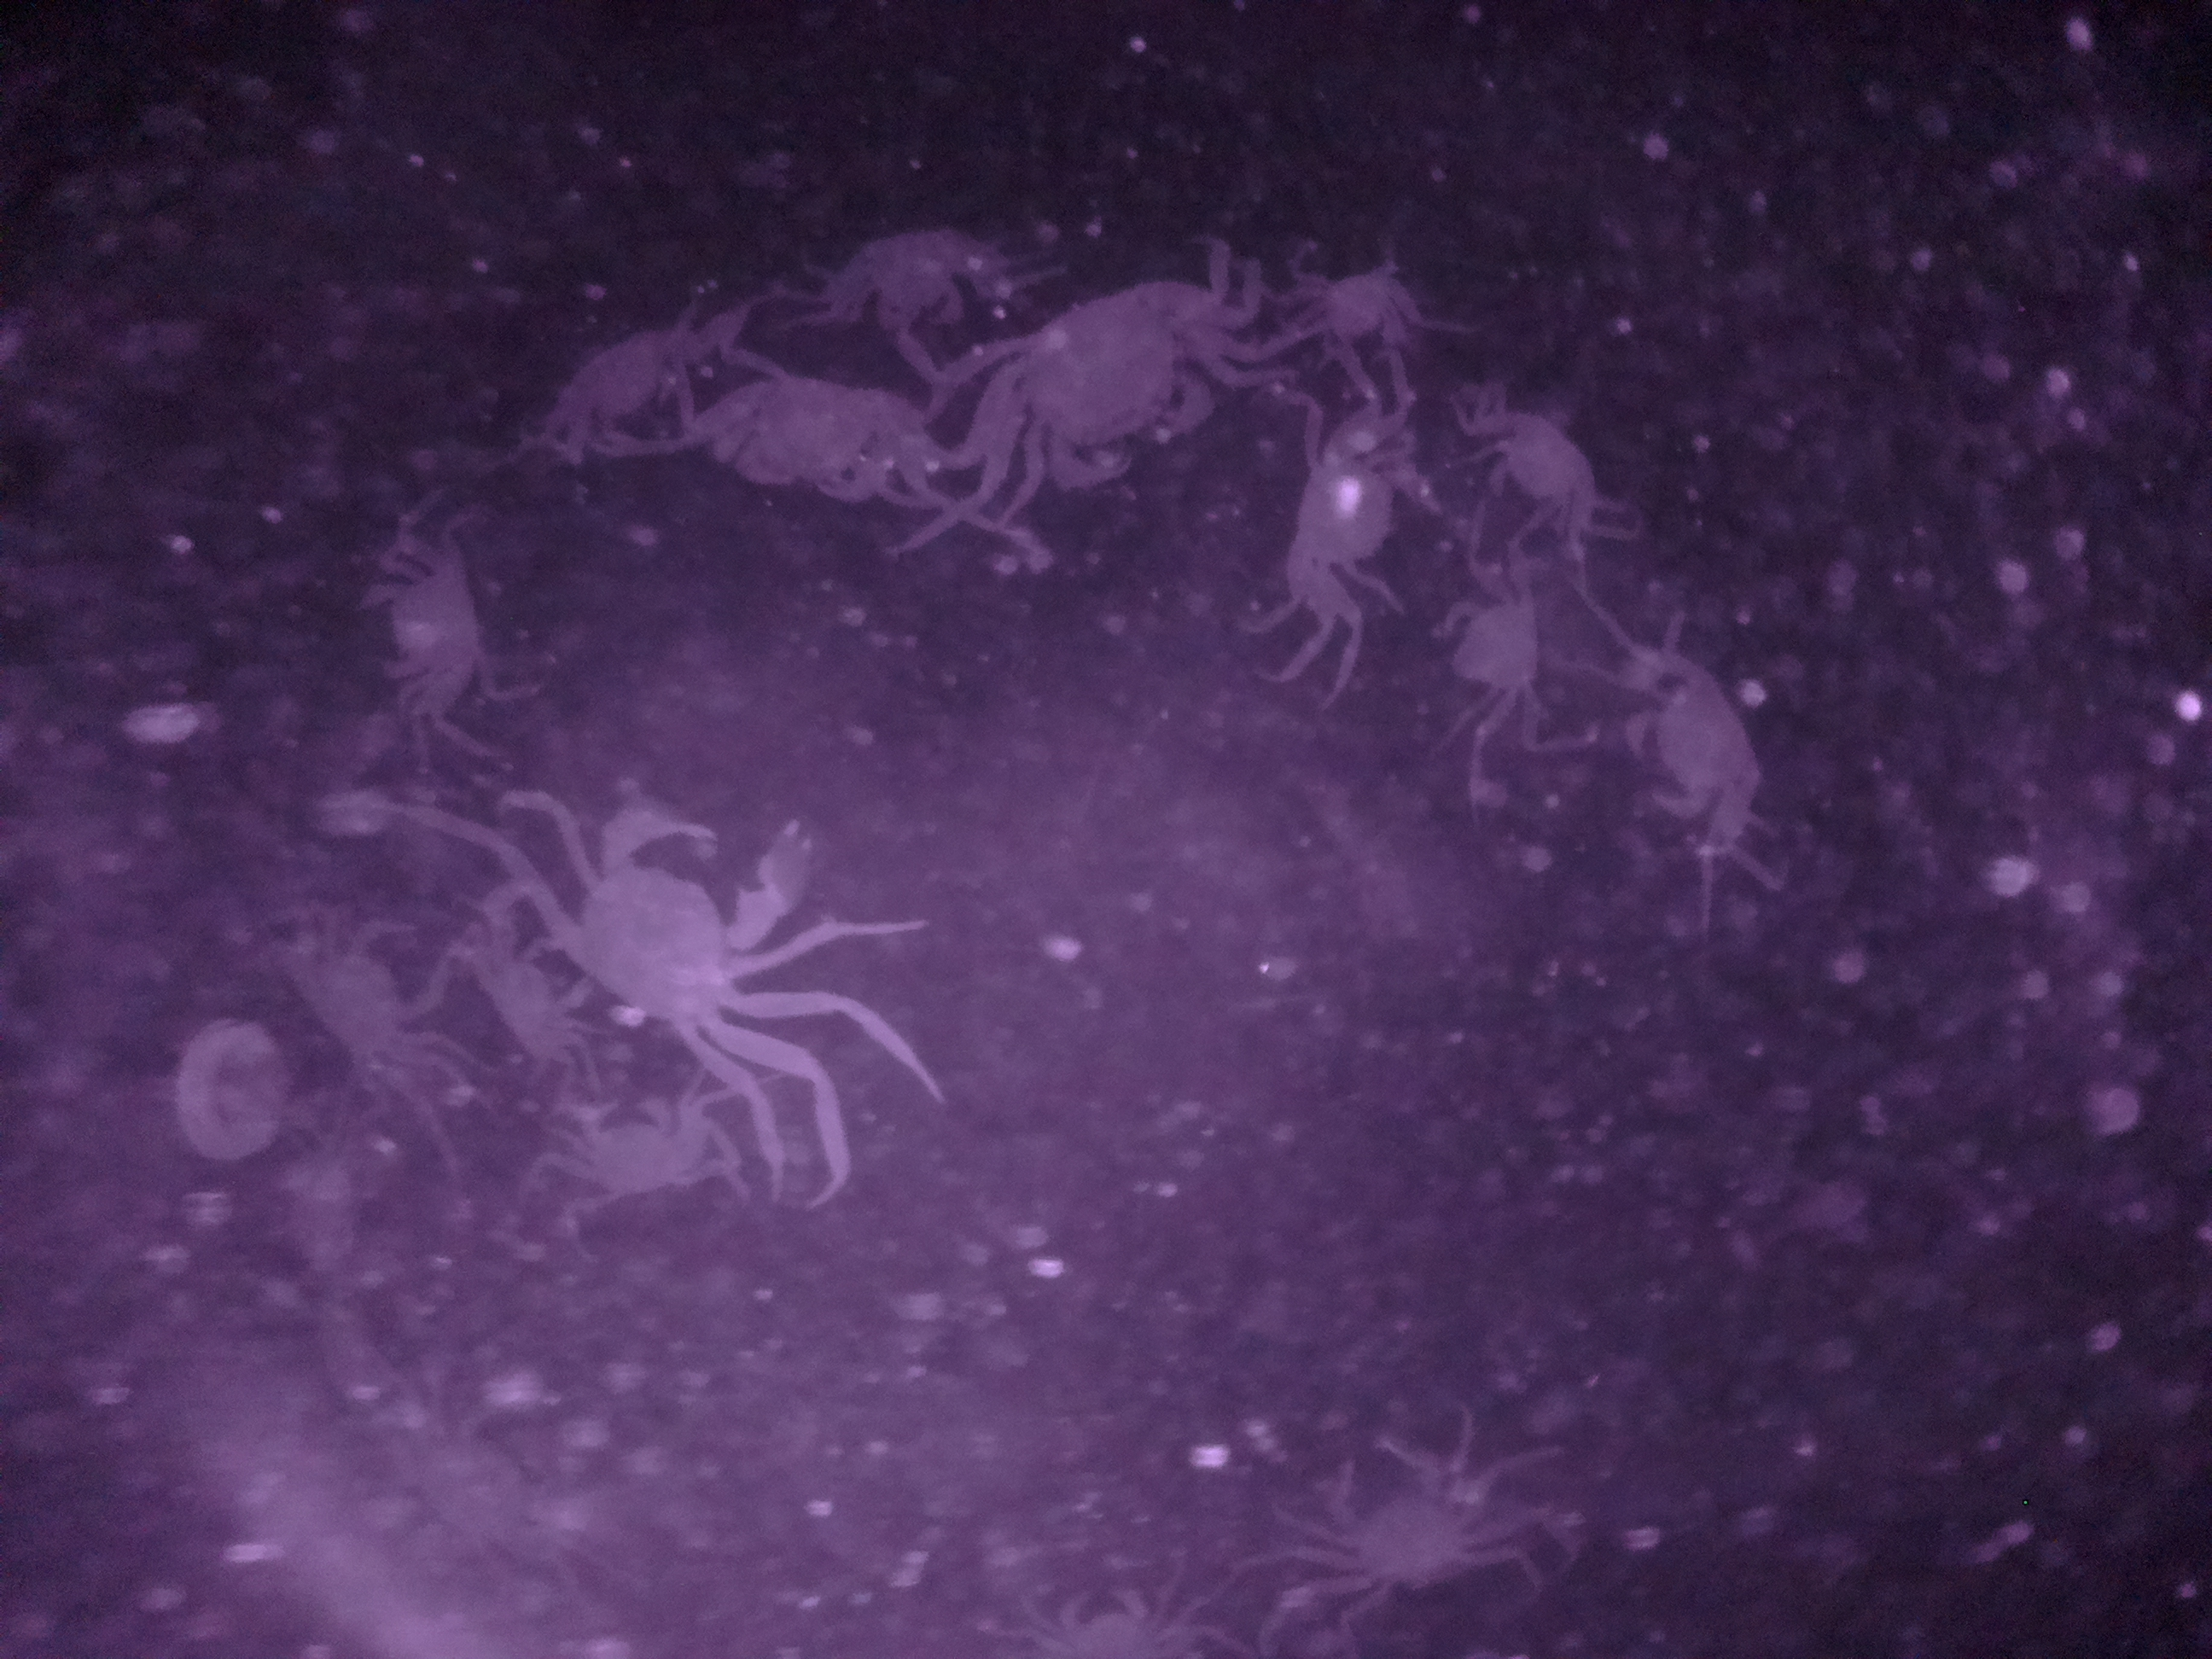Crab: (556, 777, 831, 1063), (975, 260, 1247, 493), (691, 361, 941, 505), (1611, 645, 1775, 861), (1275, 434, 1423, 627), (348, 542, 514, 714), (1425, 561, 1583, 732), (1461, 380, 1615, 537), (573, 1075, 698, 1216), (1294, 251, 1423, 366)
